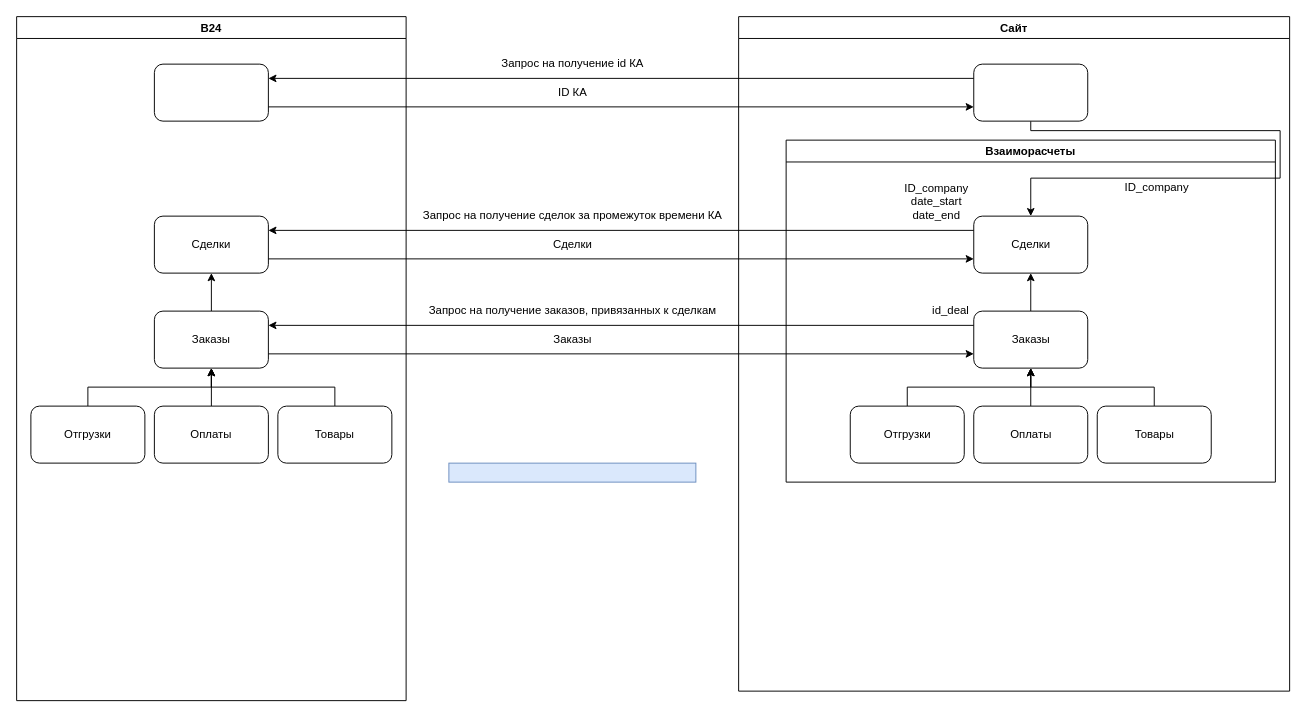
Some shapes in this 1306 by 717 pixel diagram are drawn without their labels. Here are the shapes that lost their labels. From the top down, the centre of each, then its label:
At (210,92): "CRM.Company".
At (1030,92): "Контрагент".
At (572,472): "Заказы содержат отгрузки, оплаты, товары".
